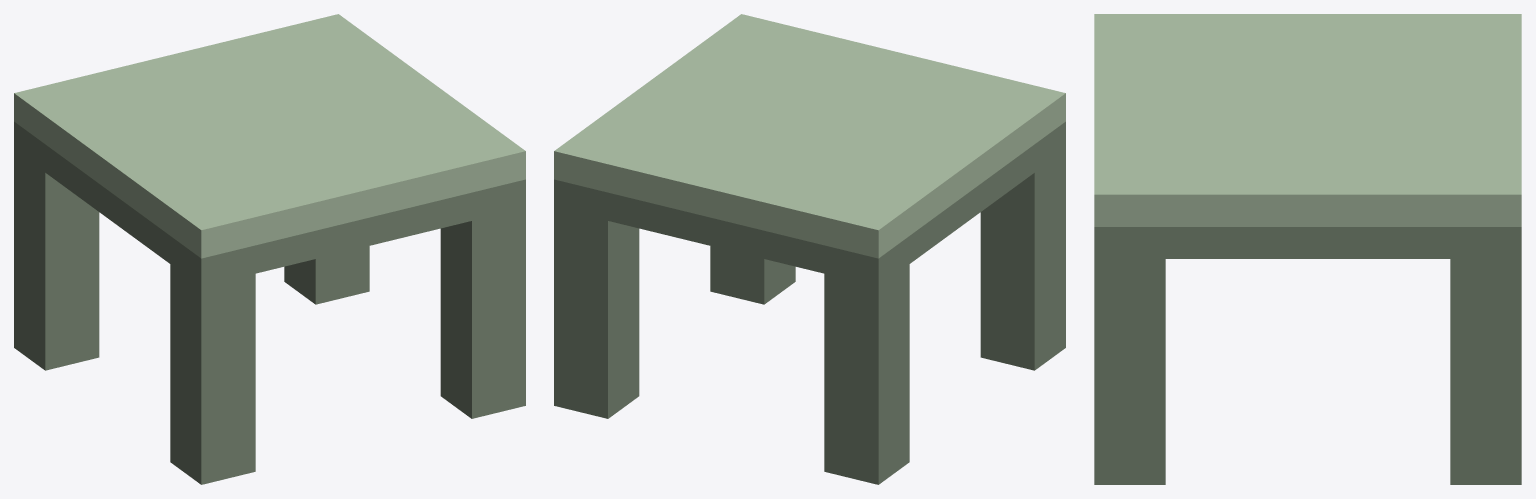
File: mesa_auxiliar_01.glb
3 renders of one model, left to right at view 1: azimuth 30°, elevation 25°; view 2: azimuth 150°, elevation 25°; view 3: azimuth 270°, elevation 25°, orthographic. The views are drawn at different scales.
Visible parts, largest first — view 1: mesa_auxiliar; view 2: mesa_auxiliar; view 3: mesa_auxiliar.
Part boxes in pixels (left/top/right/bottom): mesa_auxiliar: left=14, top=14, right=525, bottom=484; mesa_auxiliar: left=554, top=14, right=1065, bottom=484; mesa_auxiliar: left=1094, top=14, right=1521, bottom=484.
Bounding box in the file's own units: 1 × 0.75 × 1.
